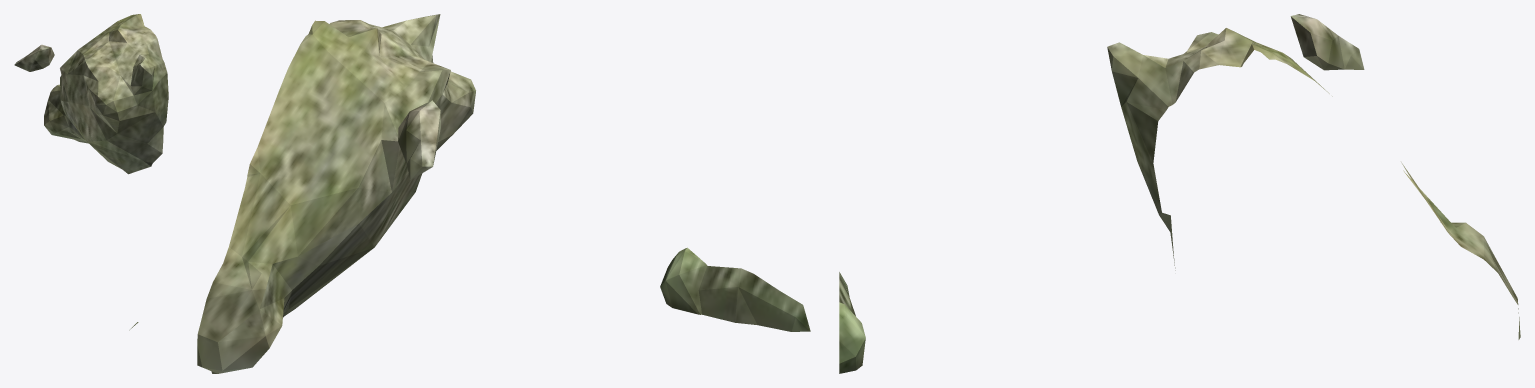
The picture shows the model from 3 angles, left to right: view 1: azimuth 30°, elevation 25°; view 2: azimuth 150°, elevation 25°; view 3: azimuth 270°, elevation 25°; orthographic projection. The views are drawn at different scales.
Bounding box in the file's own units: 5.57 × 6.35 × 9.4.
1 material, 1 textured.
